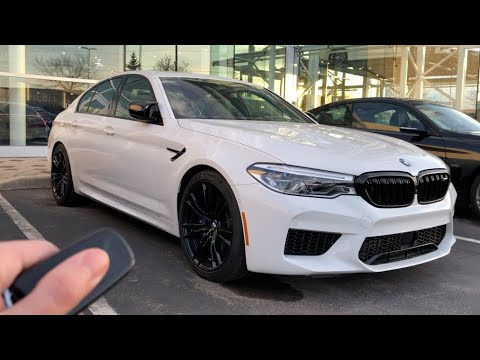car: (25, 71, 458, 288), (298, 97, 479, 210)
